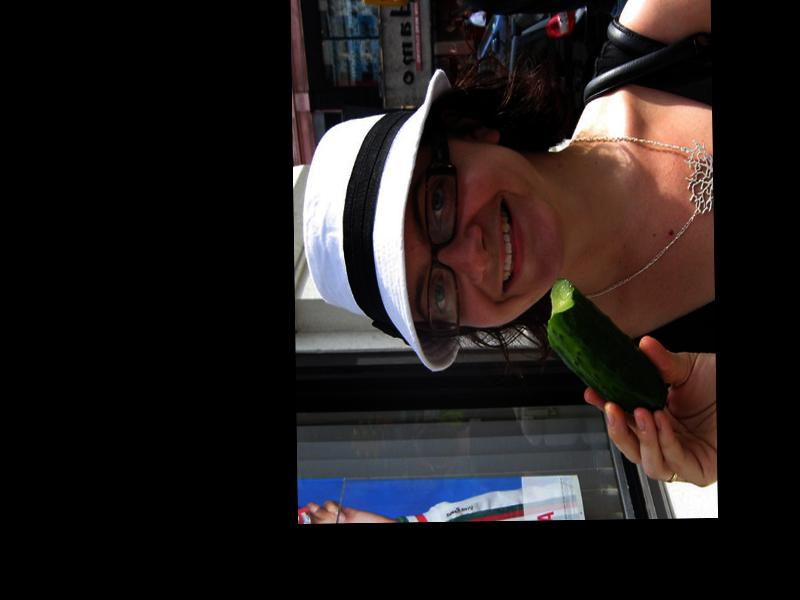Cucumber: (546, 279, 667, 417)
